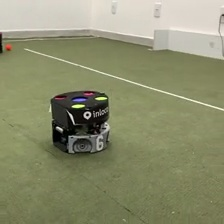ball: (4, 42, 12, 51)
goal: (150, 26, 224, 60)
robot: (48, 89, 111, 156)
